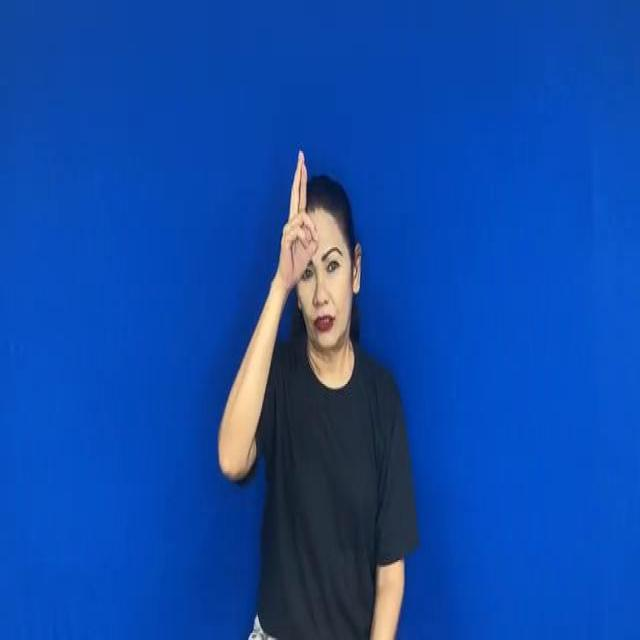crab: (274, 145, 332, 291)
